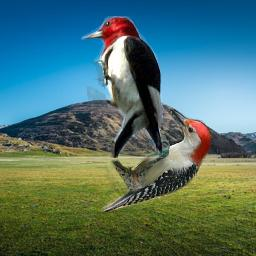Woodpecker: (80, 16, 165, 158), (101, 109, 212, 212)
